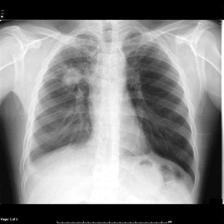tuberculosis: (14, 24, 199, 202)
